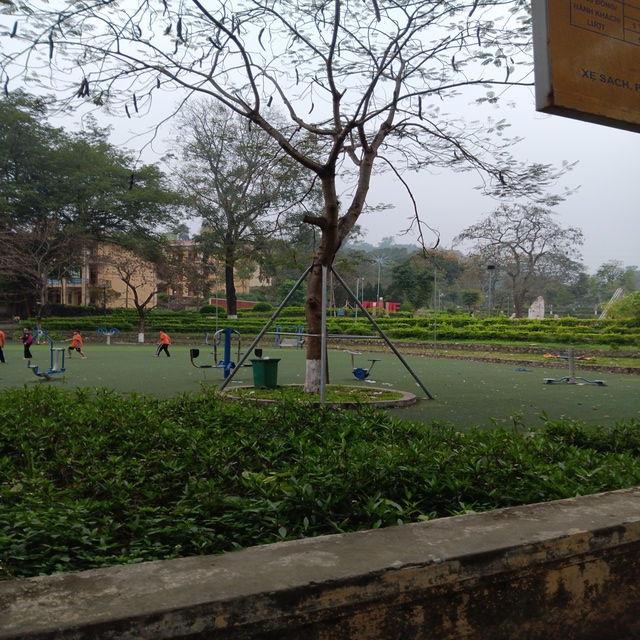thungrac: (250, 356, 281, 391)
